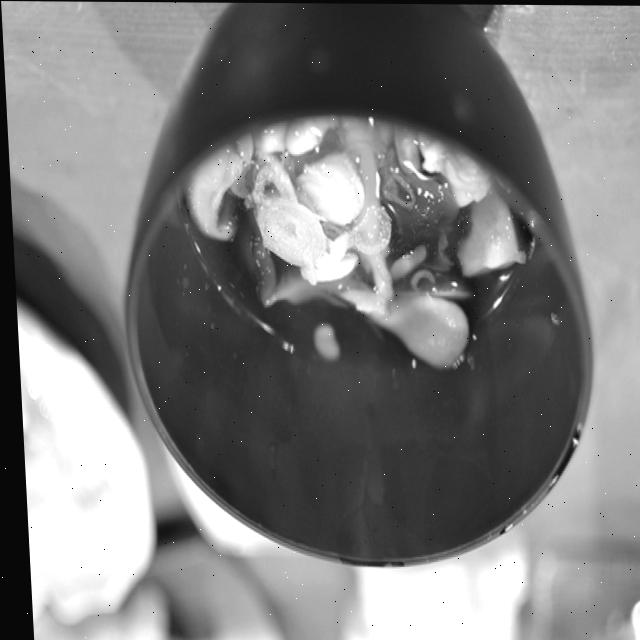汤锅炖物: (116, 81, 579, 515)
